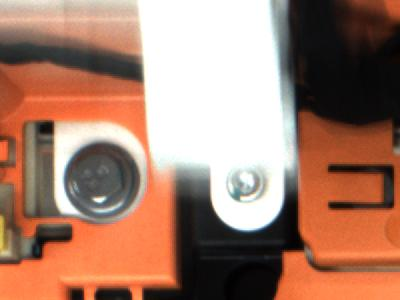nut_b: (57, 141, 147, 229)
